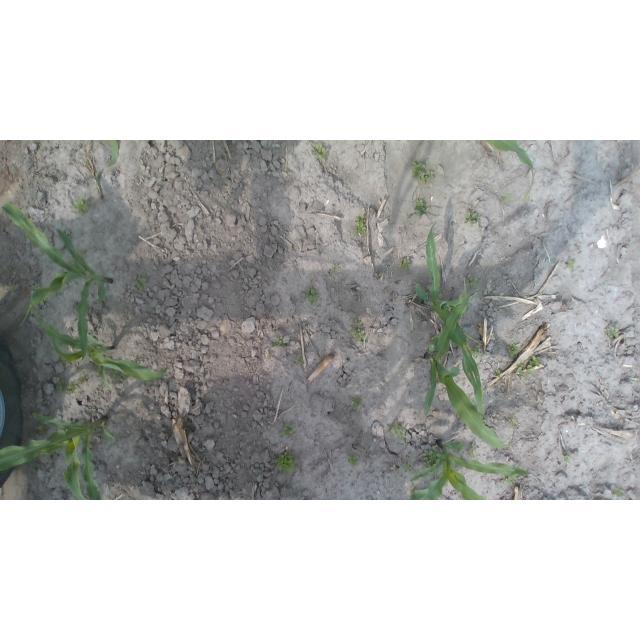Maize: (2, 202, 115, 365), (421, 278, 510, 451), (413, 222, 488, 419), (50, 316, 191, 398), (0, 412, 108, 500), (409, 439, 533, 500), (486, 140, 536, 204)
Weeds: (55, 375, 89, 394), (412, 162, 433, 185), (515, 357, 541, 372), (422, 449, 443, 467), (351, 322, 367, 343), (278, 457, 294, 476), (413, 198, 427, 218), (312, 141, 326, 161), (388, 424, 409, 437), (73, 199, 89, 212), (135, 276, 148, 292), (355, 218, 366, 236), (307, 287, 318, 304), (281, 425, 295, 437), (470, 345, 483, 357), (465, 212, 479, 223), (606, 327, 620, 338), (508, 344, 517, 360), (347, 457, 358, 468), (614, 489, 627, 498), (349, 399, 359, 410), (402, 259, 412, 269), (567, 259, 576, 270), (470, 277, 479, 287), (566, 452, 572, 462)
